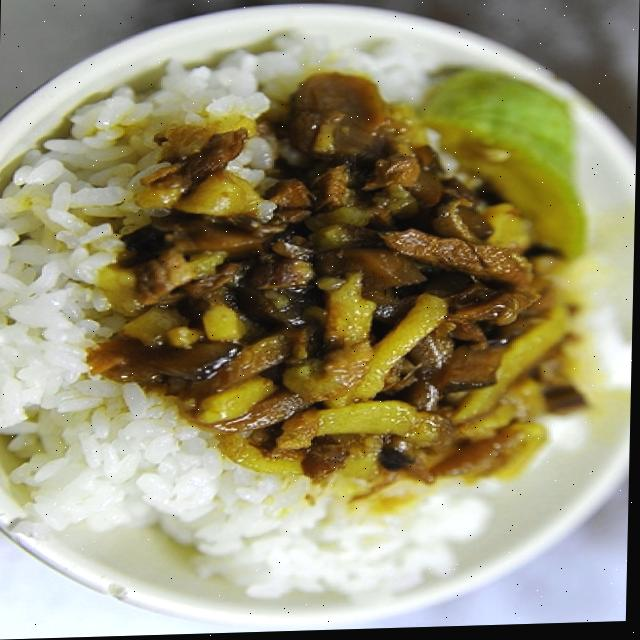猪肉菜式: (37, 3, 599, 580)
